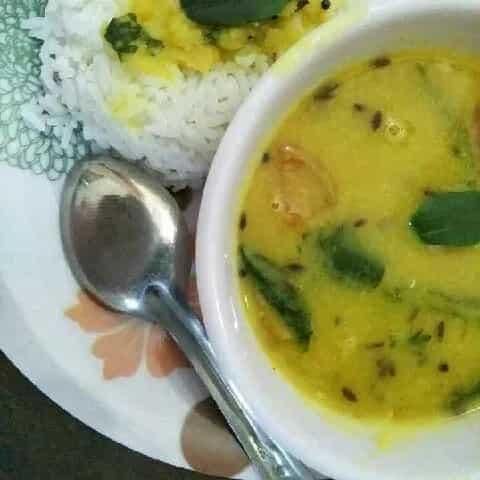rice: (38, 3, 257, 127)
varan: (243, 52, 480, 451)
